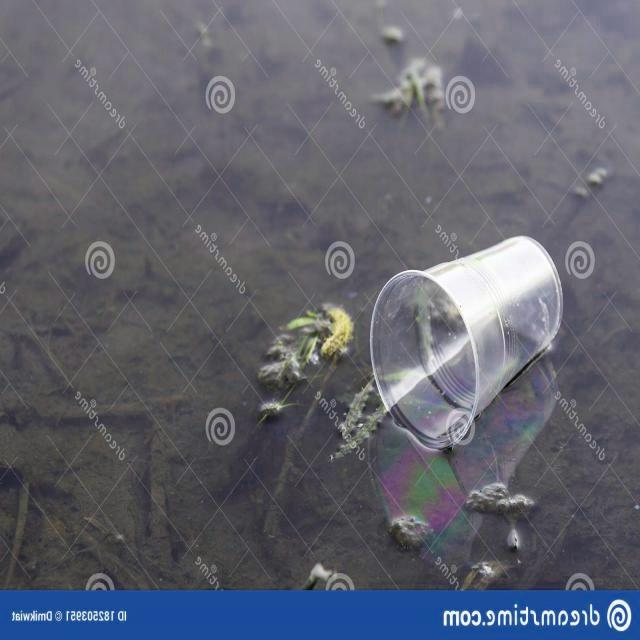Plastic: (366, 235, 565, 448)
